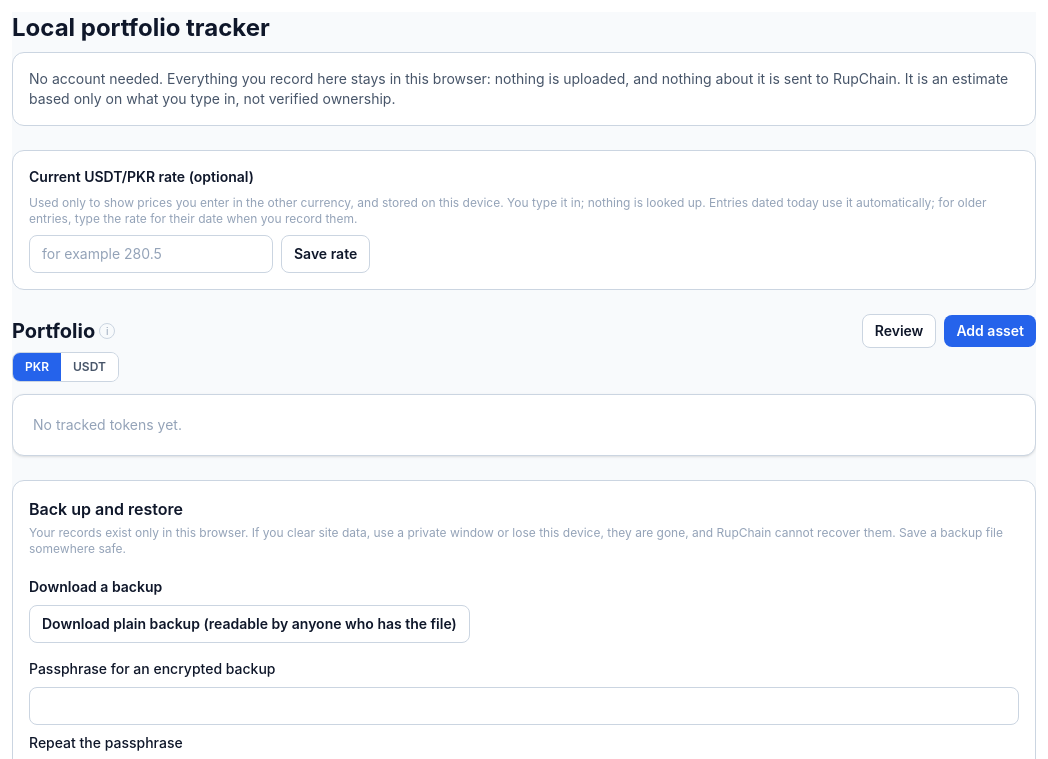
the page › saves a typed-in USDT/PKR rate on this device and rejects a bad one
Type "0" into the field named "Current USDT/PKR rate" at {"x": 151, "y": 254}, box [29, 235, 273, 273]
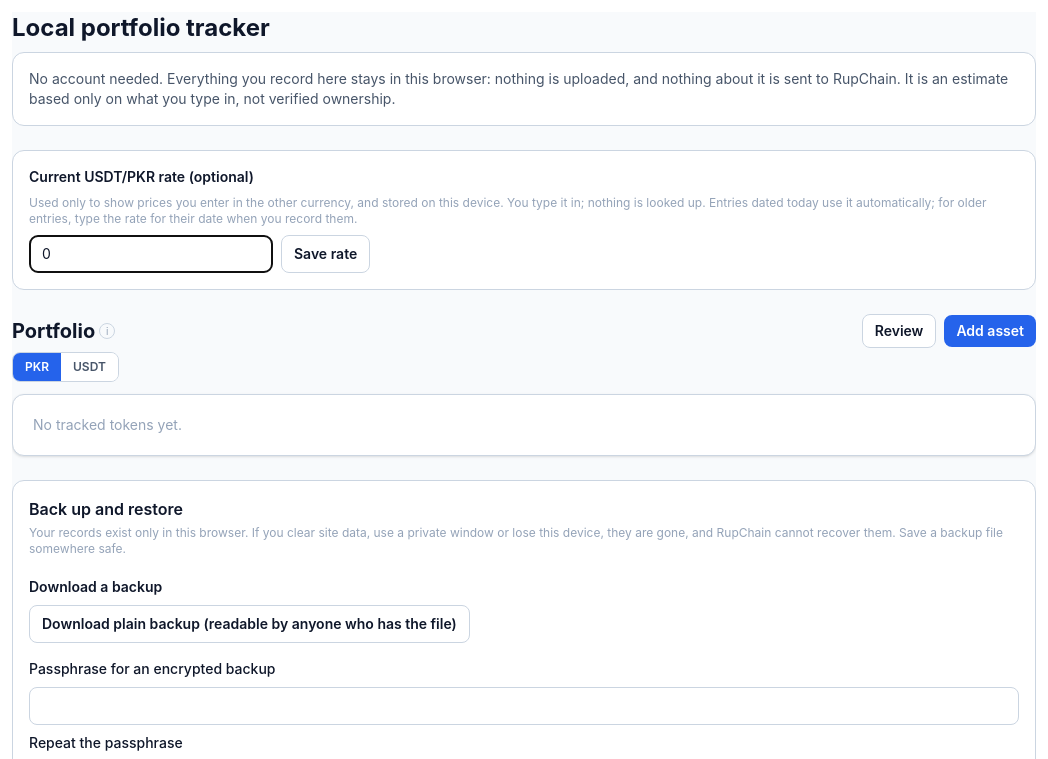
Click the button "Save rate" at {"x": 326, "y": 254}, box [281, 235, 370, 273]
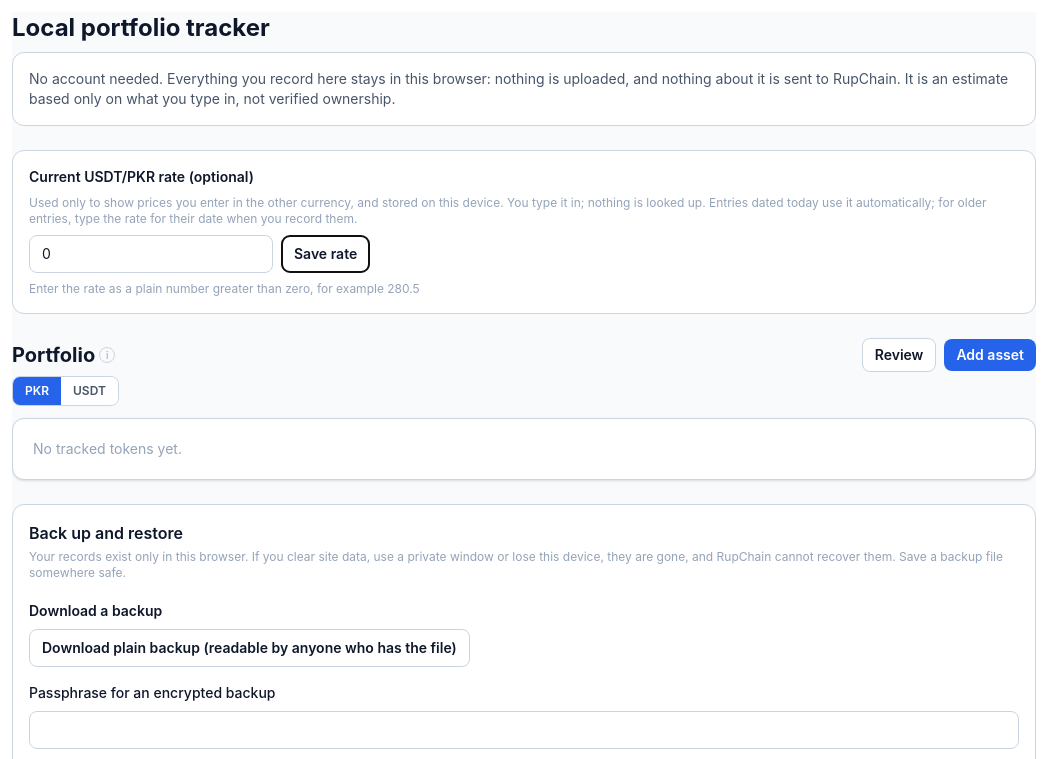
Now the text "Enter the rate as a plain number greater than zero, for example 280.5" is shown, box [29, 281, 420, 296]
Replace the text in the field named "Current USDT/PKR rate" with "281.5" at {"x": 151, "y": 254}, box [29, 235, 273, 273]
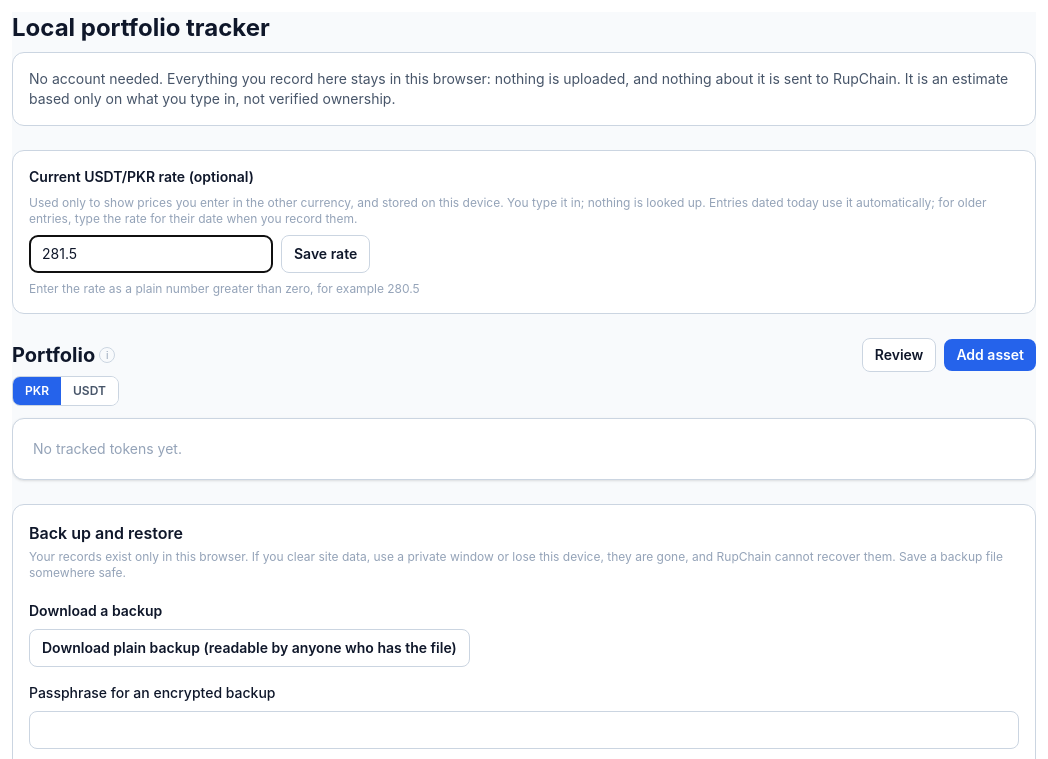
Click the button "Save rate" at {"x": 326, "y": 254}, box [281, 235, 370, 273]
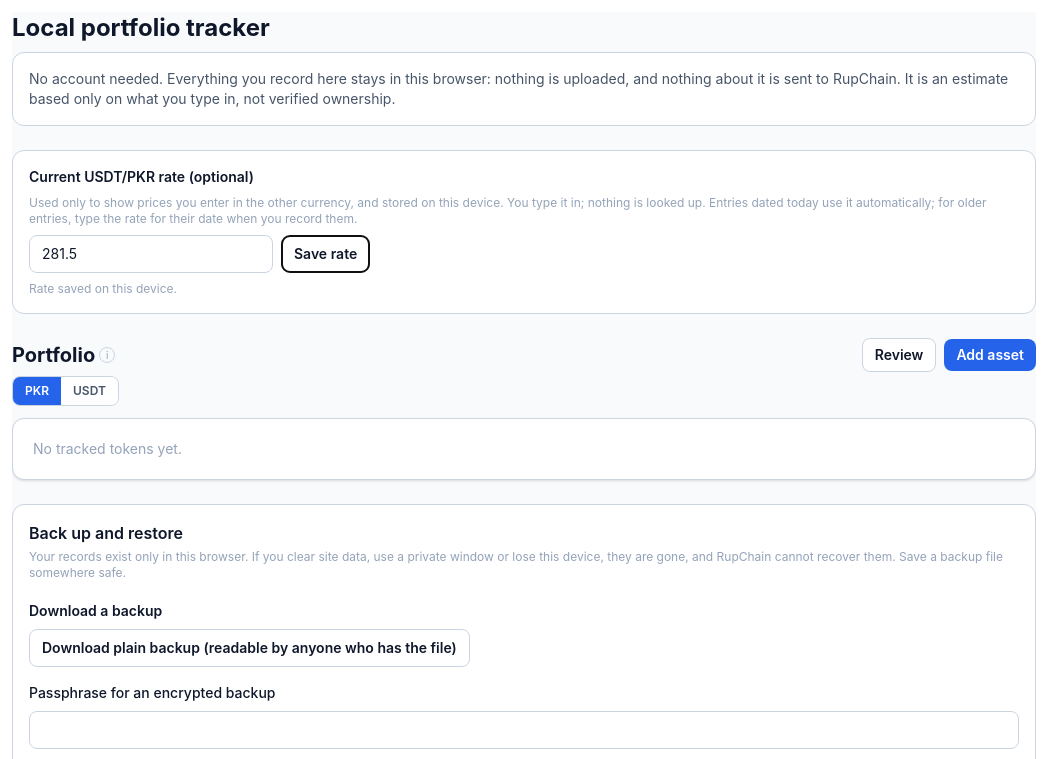
Now the text "Rate saved on this device." is shown, box [29, 281, 177, 296]
